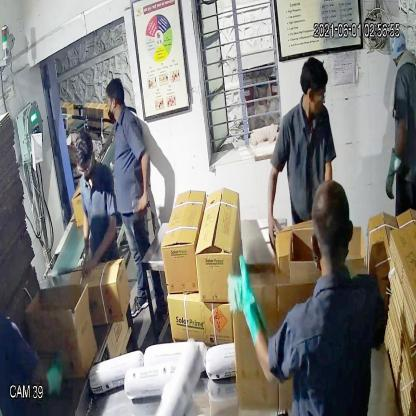goggles: (73, 152, 100, 181)
